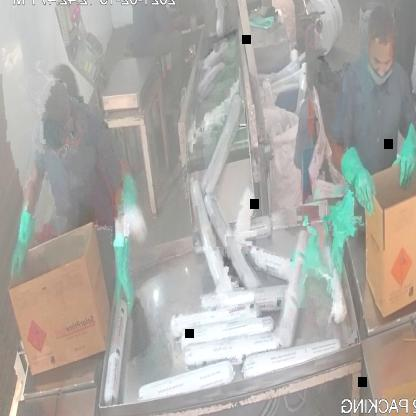glove: (108, 214, 140, 320), (337, 142, 381, 217), (5, 202, 38, 282), (395, 121, 416, 195)
no_glove: (161, 1, 196, 42)
